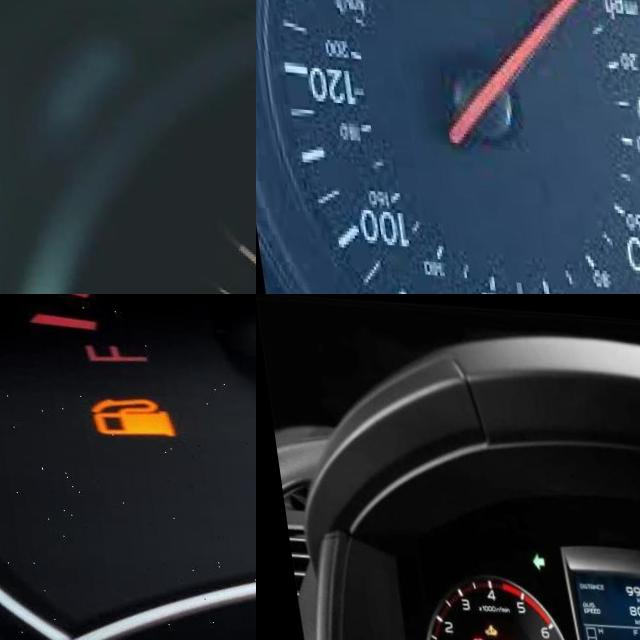Seat Belt: (494, 637, 503, 640)
